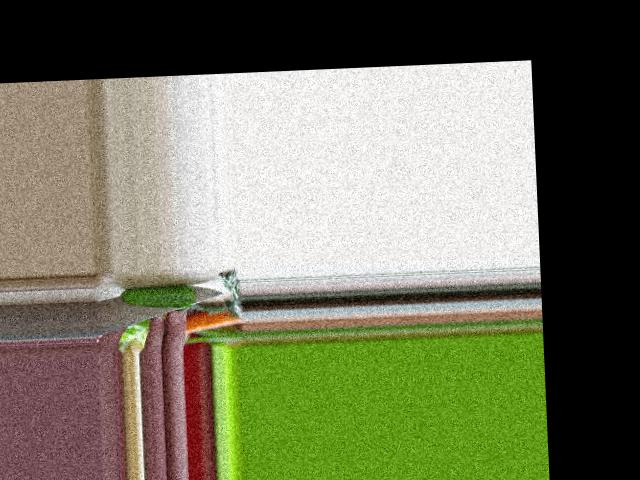cucumber: (121, 283, 197, 309)
